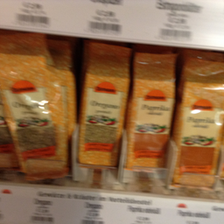spices: (1, 32, 68, 179), (79, 41, 130, 168), (175, 58, 224, 187), (129, 52, 176, 172)
